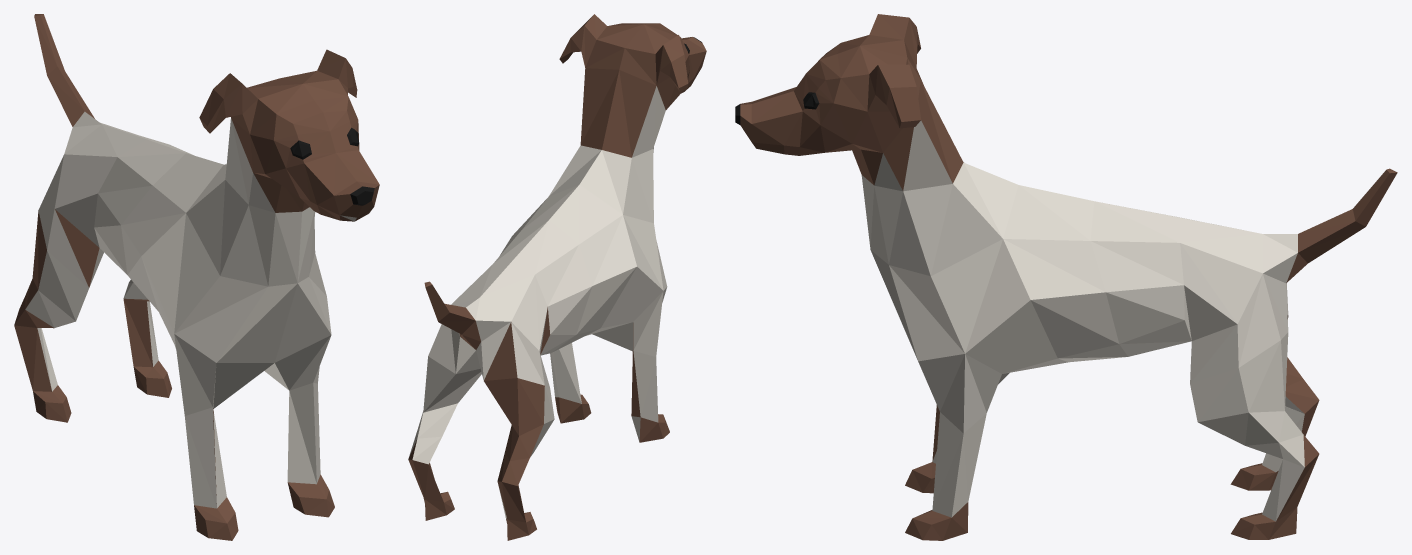
Rendered from boo.glb.
3 renders of one model, left to right at view 1: azimuth 30°, elevation 25°; view 2: azimuth 150°, elevation 25°; view 3: azimuth 270°, elevation 25°, orthographic. The views are drawn at different scales.
Parts seen in each view (by area): view 1: node-0; view 2: node-0; view 3: node-0.
Boxes of the visible parts, x1,y1,x2,y2 form: node-0: (14,14,379,540); node-0: (408,14,706,540); node-0: (735,14,1397,540).
Bounding box in the file's own units: 17.32 × 50.59 × 64.64.
Materials: 2 (1 with a texture image).
